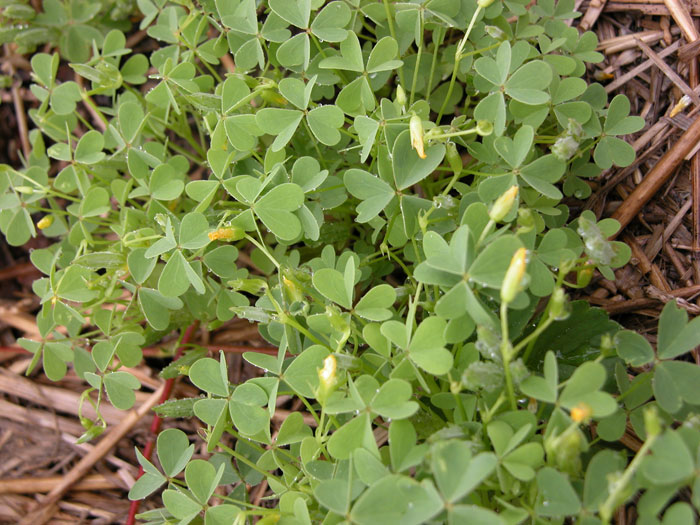oxalis: (36, 52, 676, 525)
